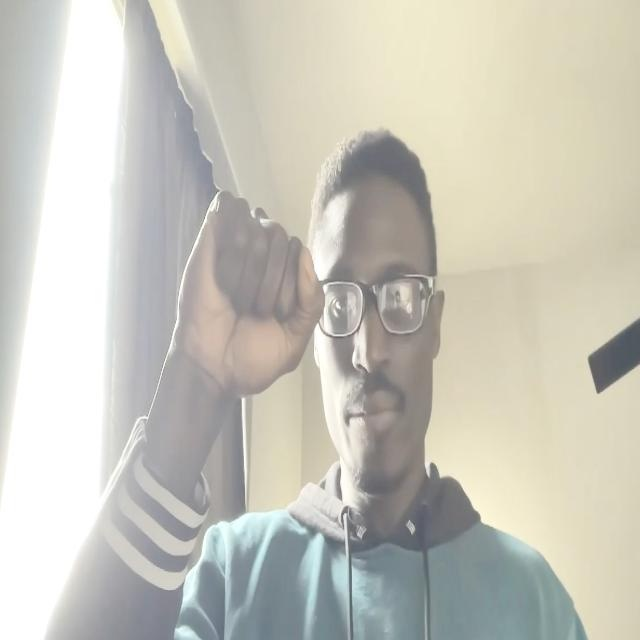Rock: (174, 191, 325, 391)
